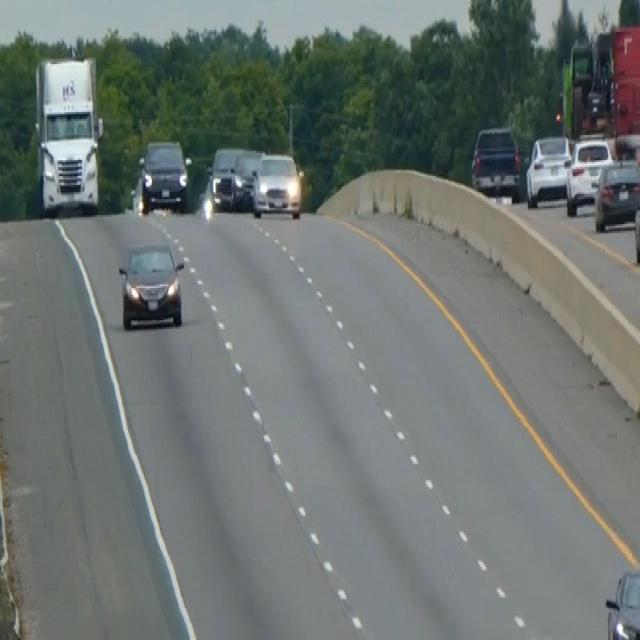car: (206, 142, 303, 220), (116, 236, 186, 332), (564, 135, 614, 215), (139, 137, 189, 211), (252, 149, 302, 219), (524, 132, 571, 206), (593, 157, 639, 231), (603, 566, 639, 638), (210, 144, 244, 210), (230, 148, 262, 210)
jeep: (469, 123, 523, 201)
lorry: (32, 51, 105, 217)
